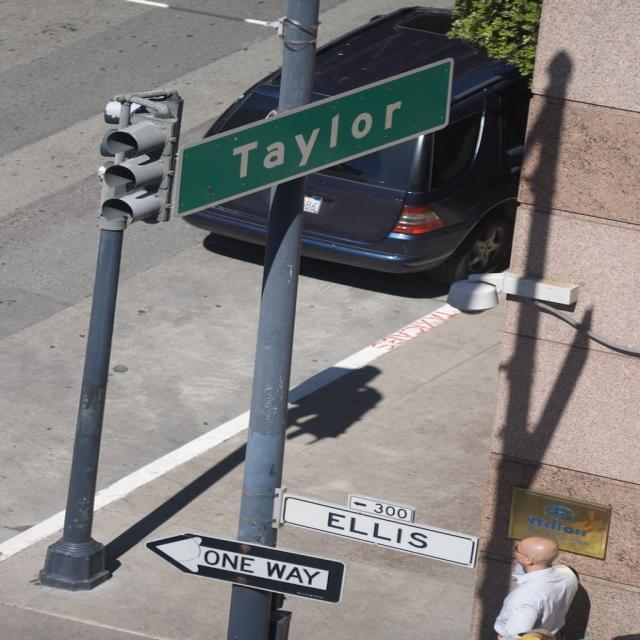off traffic light: (104, 89, 177, 229)
